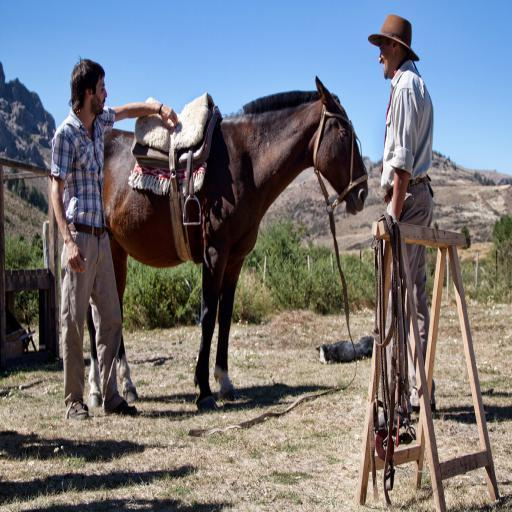horse: (84, 72, 370, 413)
